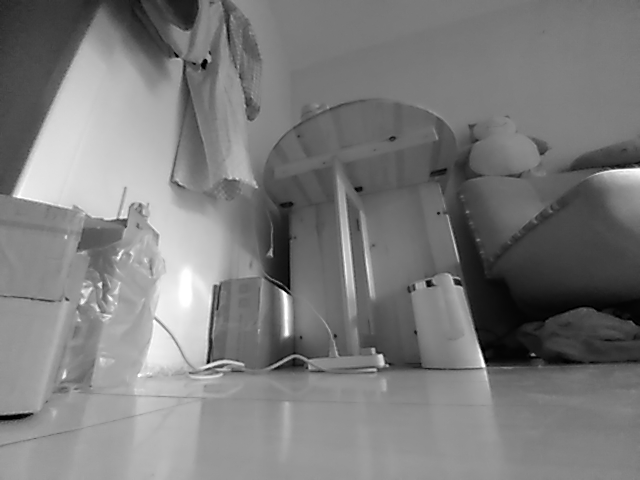power strip: (308, 336, 389, 373)
wire: (150, 314, 309, 378)
